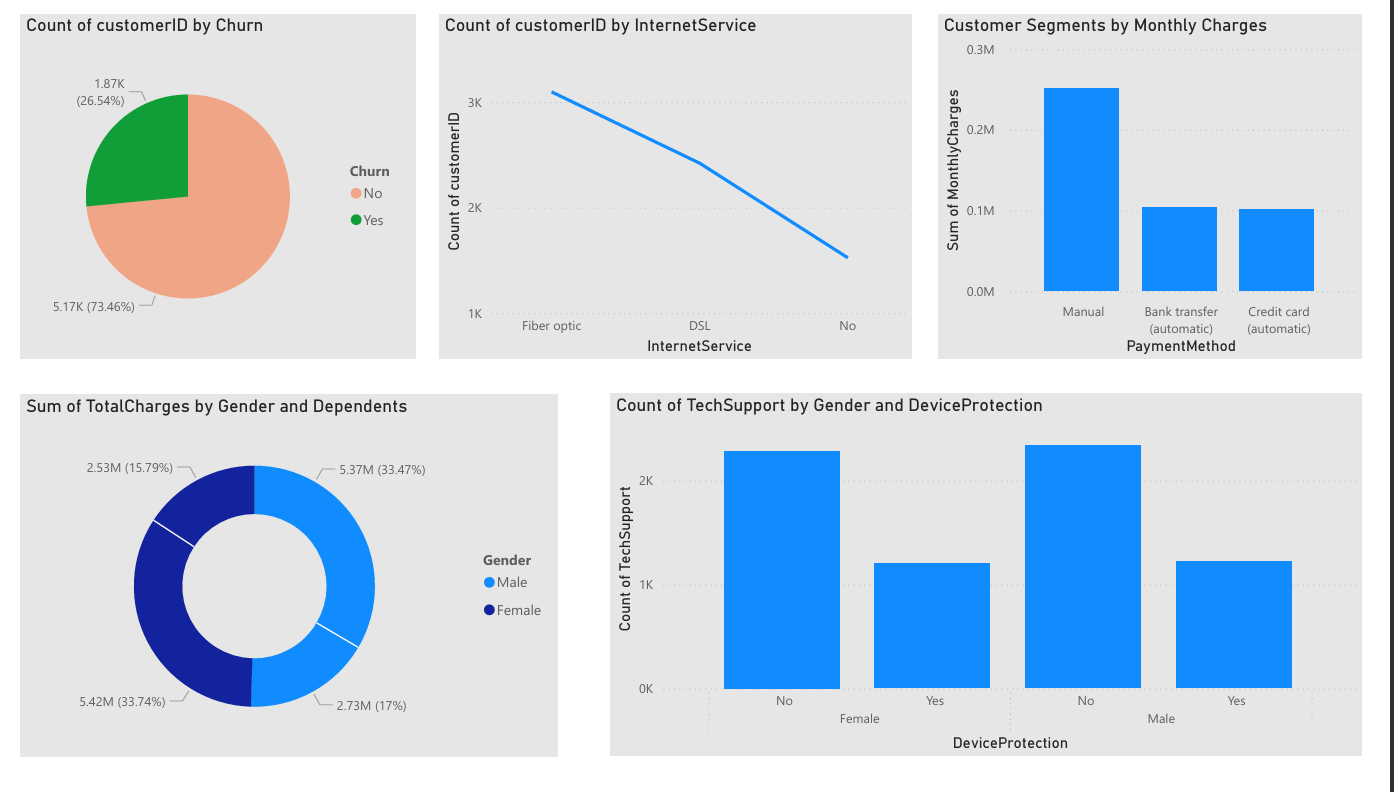

The page's visual inventory and layout, read from the dashboard file:
{"tool":"powerbi","page":{"name":"Page 1","canvas":[1280,720],"ordinal":0},"visuals":[{"type":"pieChart","fields":{"Category":["cleaned_telecom_churn.Churn"],"Y":["CountNonNull(cleaned_telecom_churn.customerID)"]},"box":[10.3,0,373.9,325.9],"z":0},{"type":"lineChart","fields":{"Category":["cleaned_telecom_churn.InternetService"],"Y":["CountNonNull(cleaned_telecom_churn.customerID)"]},"box":[405.8,0,447.2,326.3],"z":1000},{"type":"donutChart","fields":{"Y":["Sum(cleaned_telecom_churn.TotalCharges)"],"Category":["cleaned_telecom_churn.Gender"],"Series":["cleaned_telecom_churn.Dependents"]},"box":[10.3,360.2,507.7,343],"z":2000},{"type":"columnChart","fields":{"Y":["CountNonNull(cleaned_telecom_churn.TechSupport)"],"Category":["cleaned_telecom_churn.Gender","cleaned_telecom_churn.DeviceProtection"]},"box":[568.2,359.5,710.6,342.9],"z":3000},{"type":"clusteredColumnChart","title":"Customer Segments by Monthly Charges","fields":{"Y":["Sum(cleaned_telecom_churn.MonthlyCharges)"],"Category":["cleaned_telecom_churn.PaymentMethod"]},"box":[878.1,0,401.3,325.9],"z":4000}]}

Visuals, with their boxes in screenshot pixels (x1, y1, x2, y2), scaled from the page's 1280x720 canvas onto the 1394x792 screenshot:
pieChart - cleaned_telecom_churn.Churn x CountNonNull(cleaned_telecom_churn.customerID): box(11, 0, 418, 358)
lineChart - cleaned_telecom_churn.InternetService x CountNonNull(cleaned_telecom_churn.customerID): box(442, 0, 929, 359)
donutChart - Sum(cleaned_telecom_churn.TotalCharges) x cleaned_telecom_churn.Gender: box(11, 396, 564, 774)
columnChart - CountNonNull(cleaned_telecom_churn.TechSupport) x cleaned_telecom_churn.Gender: box(619, 395, 1393, 773)
"Customer Segments by Monthly Charges" clusteredColumnChart: box(956, 0, 1393, 358)
